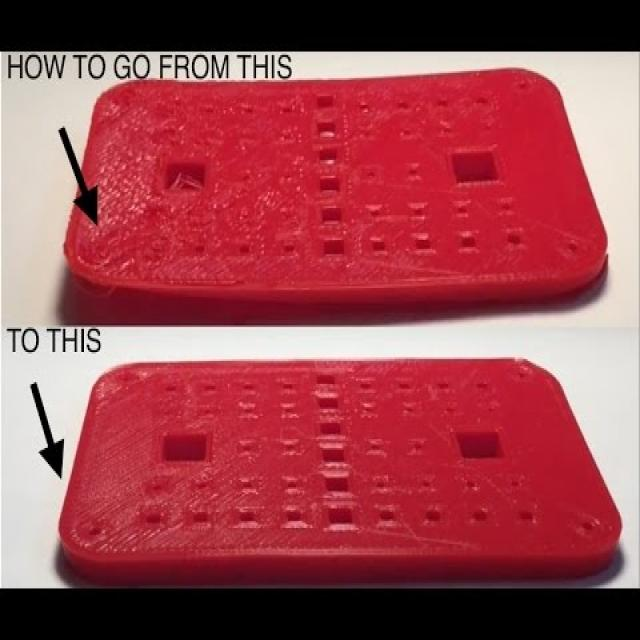Warping: (66, 242, 240, 311)
